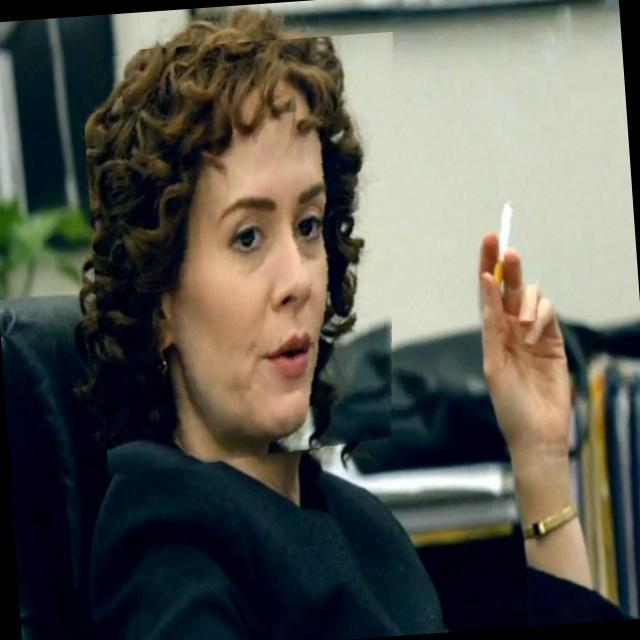cigarette: (473, 152, 538, 324)
